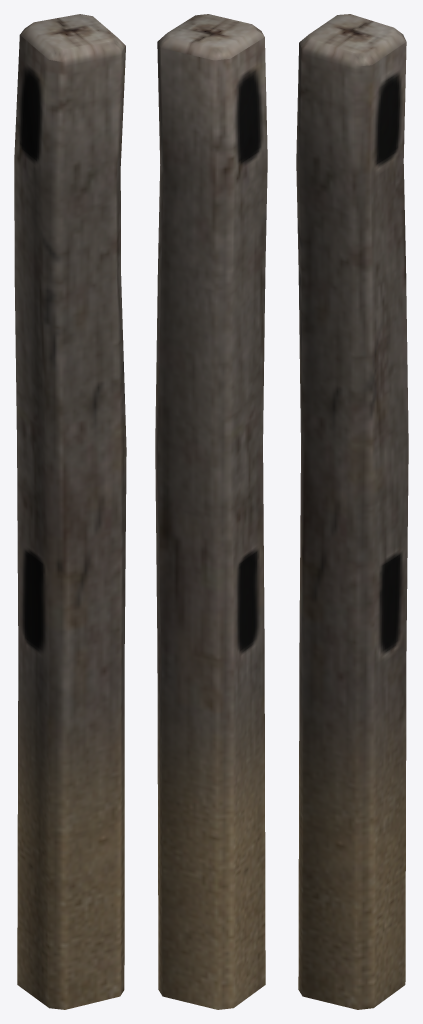
File: Fence_end 2.glb
3 views of the same model, side by side, from view 1: azimuth 30°, elevation 25°; view 2: azimuth 150°, elevation 25°; view 3: azimuth 330°, elevation 25° (orthographic).
Parts seen in each view (by area): view 1: wall_wood_end; view 2: wall_wood_end; view 3: wall_wood_end.
Boxes of the visible parts, box(x1,y1,x2,y2) form: wall_wood_end: box(14, 14, 126, 1009); wall_wood_end: box(155, 14, 267, 1009); wall_wood_end: box(296, 14, 408, 1009).
Bounding box in the file's own units: 0.00126 × 0.0137 × 0.00122.
1 material, 1 textured.
